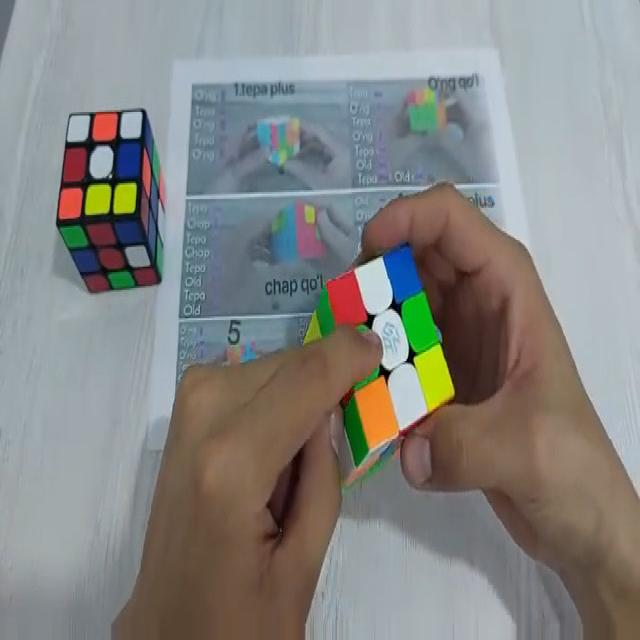Rub: (298, 252, 456, 482), (58, 105, 166, 291)
